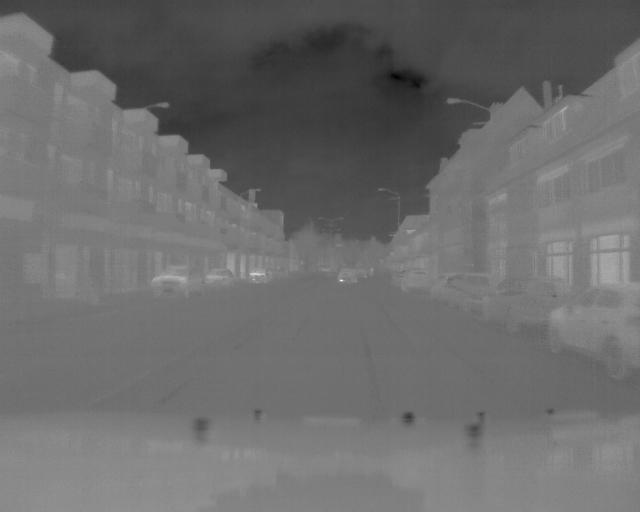car: (544, 278, 640, 379), (483, 278, 551, 343), (148, 265, 204, 301), (208, 264, 239, 298), (336, 266, 362, 287)
